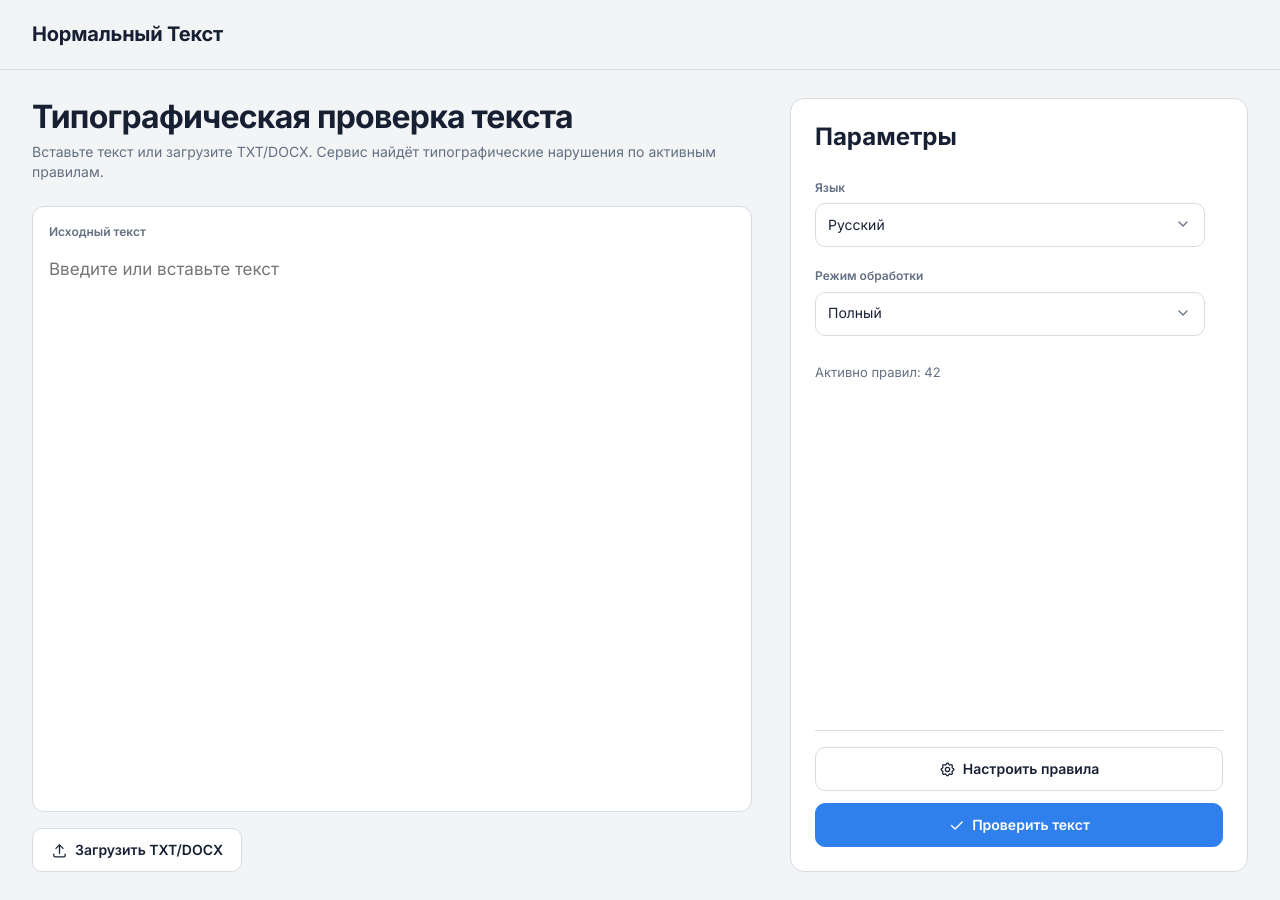
Requirement 1: text validation and processing › empty text shows validation error and does not open Review
The image size is (1280, 900).
Click the button "Проверить текст": coordinates (1019, 825) [815,803,1223,847]
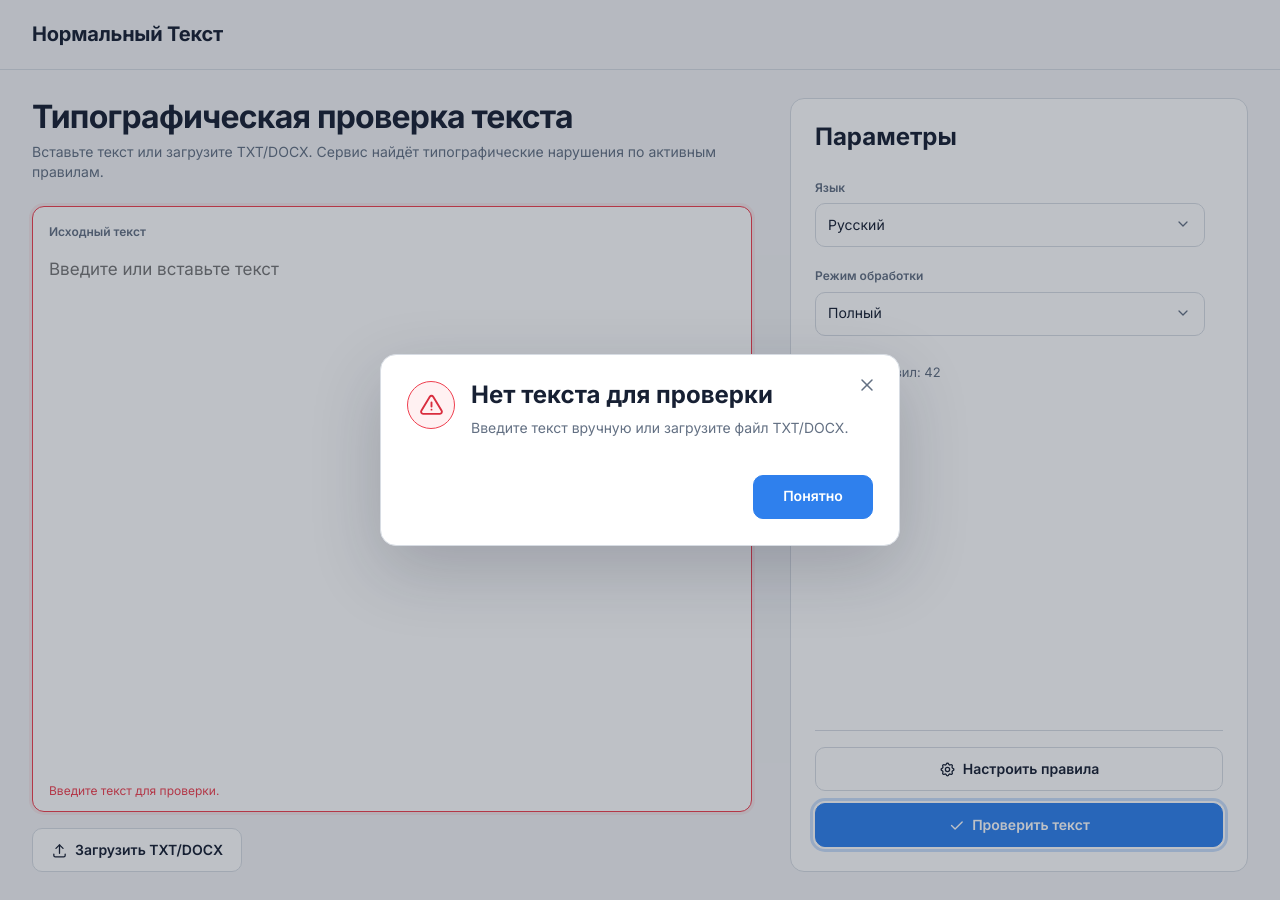
Now the heading "Нет текста для проверки" is shown, box [471,380,773,410]
